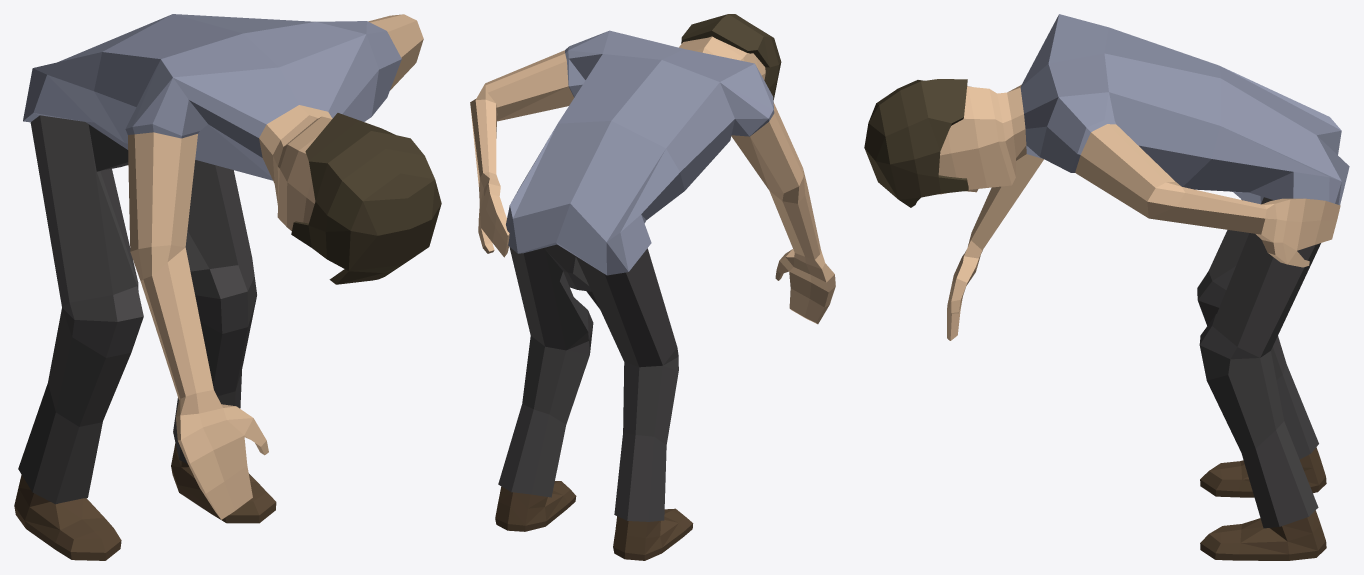
The model's file is Male_PickingUp.glb.
3 views of the same model, side by side, from view 1: azimuth 30°, elevation 25°; view 2: azimuth 150°, elevation 25°; view 3: azimuth 270°, elevation 25° (orthographic). The views are drawn at different scales.
Visible parts, largest first — view 1: Male_PickingUp; view 2: Male_PickingUp; view 3: Male_PickingUp.
Part boxes in pixels (x1,y1,x2,y2): Male_PickingUp: [14, 14, 441, 560]; Male_PickingUp: [470, 14, 835, 560]; Male_PickingUp: [864, 14, 1349, 560].
Size of the model in its own units: 0.7385 by 1.08 by 1.02.
